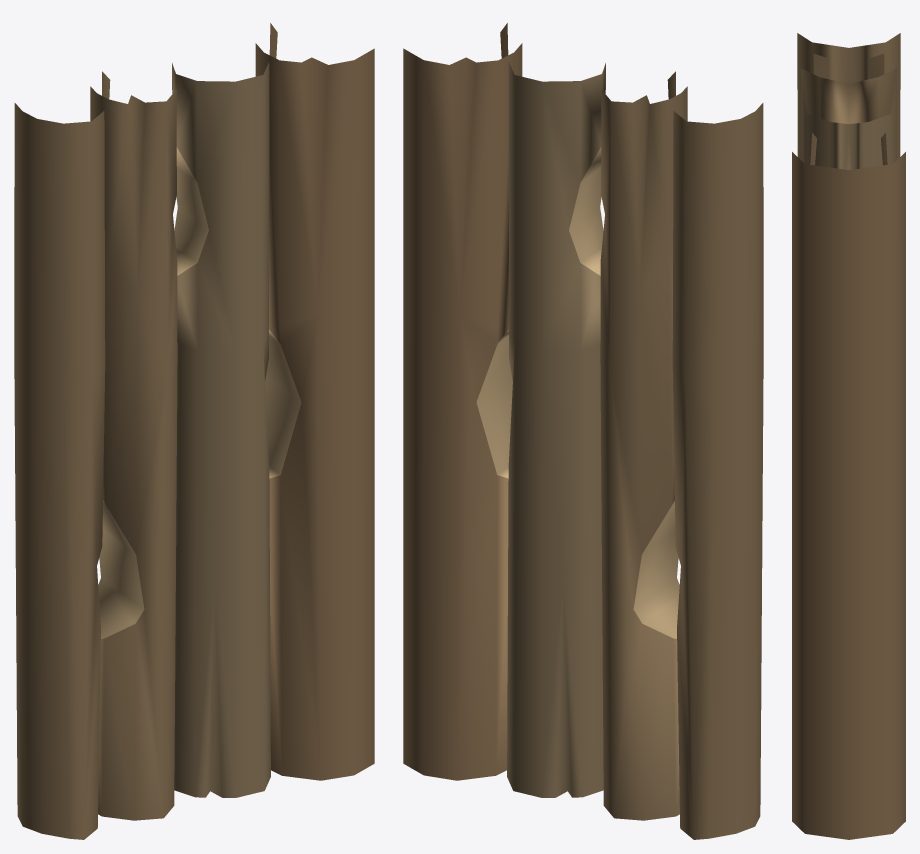
Rendered from rpgpp_av_wall_04_1.5x3_a.gltf.
The picture shows the model from 3 angles, left to right: view 1: azimuth 30°, elevation 25°; view 2: azimuth 150°, elevation 25°; view 3: azimuth 270°, elevation 25°; orthographic projection. The views are drawn at different scales.
Parts seen in each view (by area): view 1: rpgpp_av_wall_04_1.5x3_a; view 2: rpgpp_av_wall_04_1.5x3_a; view 3: rpgpp_av_wall_04_1.5x3_a.
Boxes of the visible parts, <box> form: rpgpp_av_wall_04_1.5x3_a: <box>14,23,374,839</box>; rpgpp_av_wall_04_1.5x3_a: <box>403,23,763,839</box>; rpgpp_av_wall_04_1.5x3_a: <box>792,33,905,839</box>.
Bounding box in the file's own units: 0.015 × 0.03 × 0.00463.
1 material, 1 textured.
